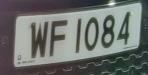0: (82, 12, 102, 57)
1: (71, 13, 86, 59)
4: (115, 9, 133, 50)
8: (100, 11, 118, 53)
F: (48, 15, 69, 62)
W: (27, 17, 50, 63)
